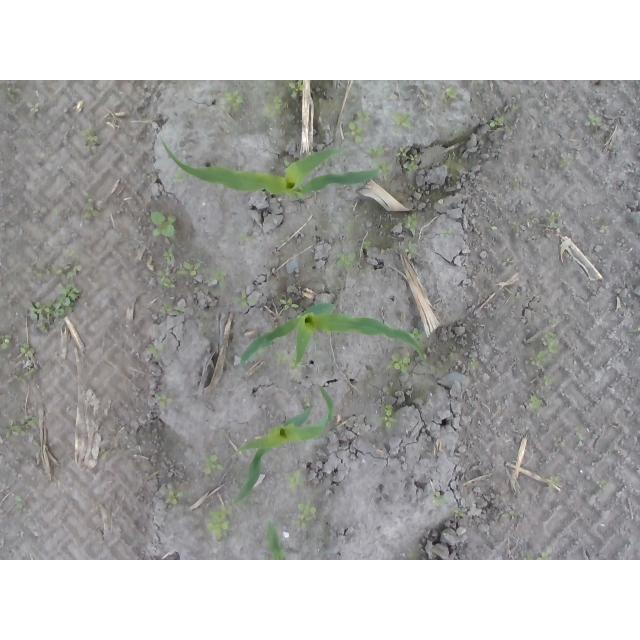Maize: (159, 134, 386, 201), (223, 386, 338, 506), (240, 301, 429, 367), (266, 521, 290, 560)
Weeds: (29, 285, 80, 327), (26, 248, 83, 277), (161, 252, 203, 288), (1, 414, 40, 443), (348, 110, 373, 143), (534, 336, 558, 368), (297, 503, 320, 534), (208, 507, 228, 541), (151, 211, 177, 237), (368, 146, 387, 175), (1, 82, 23, 102), (276, 352, 301, 369), (226, 89, 245, 110), (521, 548, 554, 560), (389, 354, 412, 371), (409, 326, 425, 350), (202, 455, 222, 474), (381, 405, 395, 431), (263, 95, 281, 115), (338, 252, 358, 269), (584, 113, 603, 130), (391, 113, 411, 128), (165, 491, 184, 506), (531, 394, 546, 411), (86, 131, 100, 149), (147, 343, 163, 358), (549, 213, 562, 231), (19, 344, 37, 356), (288, 473, 302, 488), (154, 394, 171, 406), (210, 272, 227, 284), (291, 81, 305, 95), (0, 334, 12, 350), (86, 204, 97, 221), (27, 102, 42, 114), (443, 88, 456, 100), (408, 240, 417, 257), (407, 219, 417, 234), (491, 117, 505, 127), (403, 162, 418, 171), (16, 494, 25, 507), (552, 476, 561, 485), (435, 496, 445, 504), (244, 234, 249, 239)
